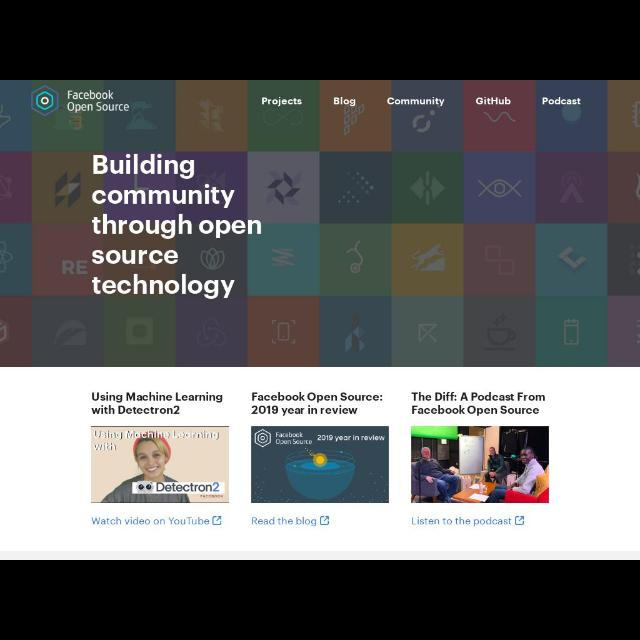backgroundimage: (1, 80, 639, 366)
icon: (514, 516, 524, 526), (319, 516, 329, 526), (212, 516, 222, 526)
image: (90, 426, 230, 504), (250, 426, 390, 504), (410, 426, 550, 504), (29, 84, 61, 116)
multitab: (261, 96, 583, 108)
text: (90, 154, 266, 302), (410, 390, 548, 418), (91, 390, 225, 418), (250, 391, 384, 417), (90, 515, 210, 527), (68, 91, 130, 113), (410, 515, 512, 527), (250, 516, 318, 528), (387, 95, 445, 108), (262, 96, 302, 108), (473, 96, 512, 106), (540, 98, 582, 106), (334, 96, 356, 108)
